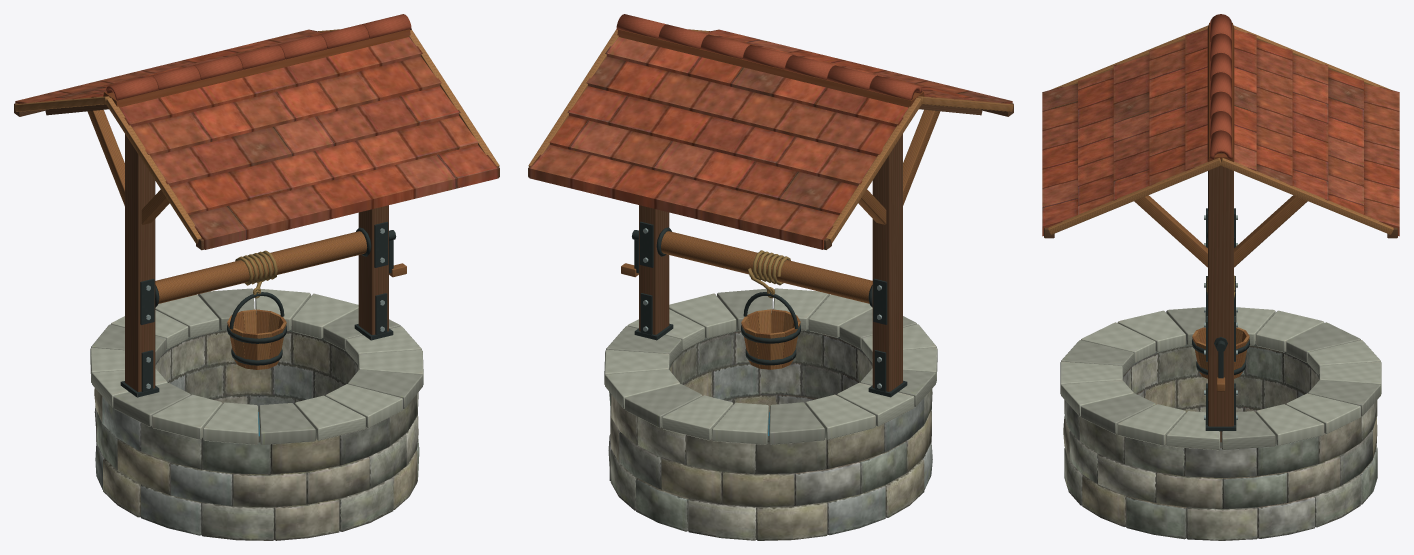
The model's file is wishingwell.glb.
3 views of the same model, side by side, from view 1: azimuth 30°, elevation 25°; view 2: azimuth 150°, elevation 25°; view 3: azimuth 270°, elevation 25° (orthographic). The views are drawn at different scales.
Visible parts, largest first — view 1: WishingwellBody; view 2: WishingwellBody; view 3: WishingwellBody.
Boxes of the visible parts, box(x1,y1,x2,y2) form: WishingwellBody: box(14, 14, 499, 540); WishingwellBody: box(528, 14, 1013, 540); WishingwellBody: box(1042, 14, 1399, 540).
Size of the model in its own units: 2.21 by 2.93 by 2.4.
1 material, 1 textured.
